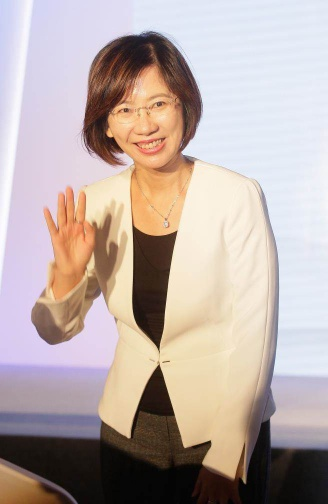female: (78, 28, 218, 181)
